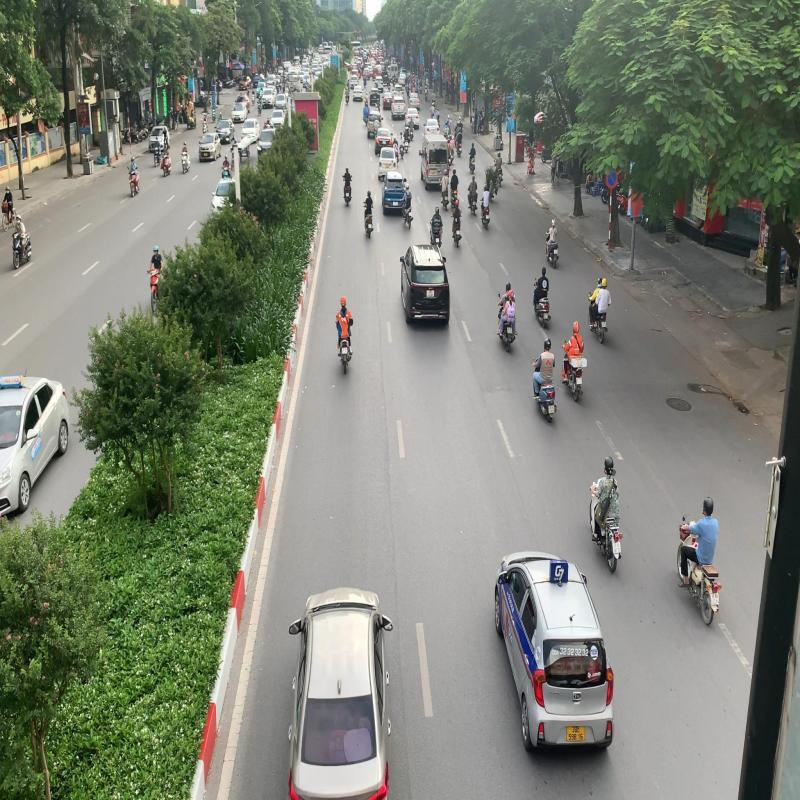helmet: (702, 496, 714, 516), (604, 457, 614, 476)
licenseplate: (612, 542, 622, 552), (710, 593, 719, 604)
motorcyclist: (677, 494, 722, 625), (589, 457, 623, 574)
